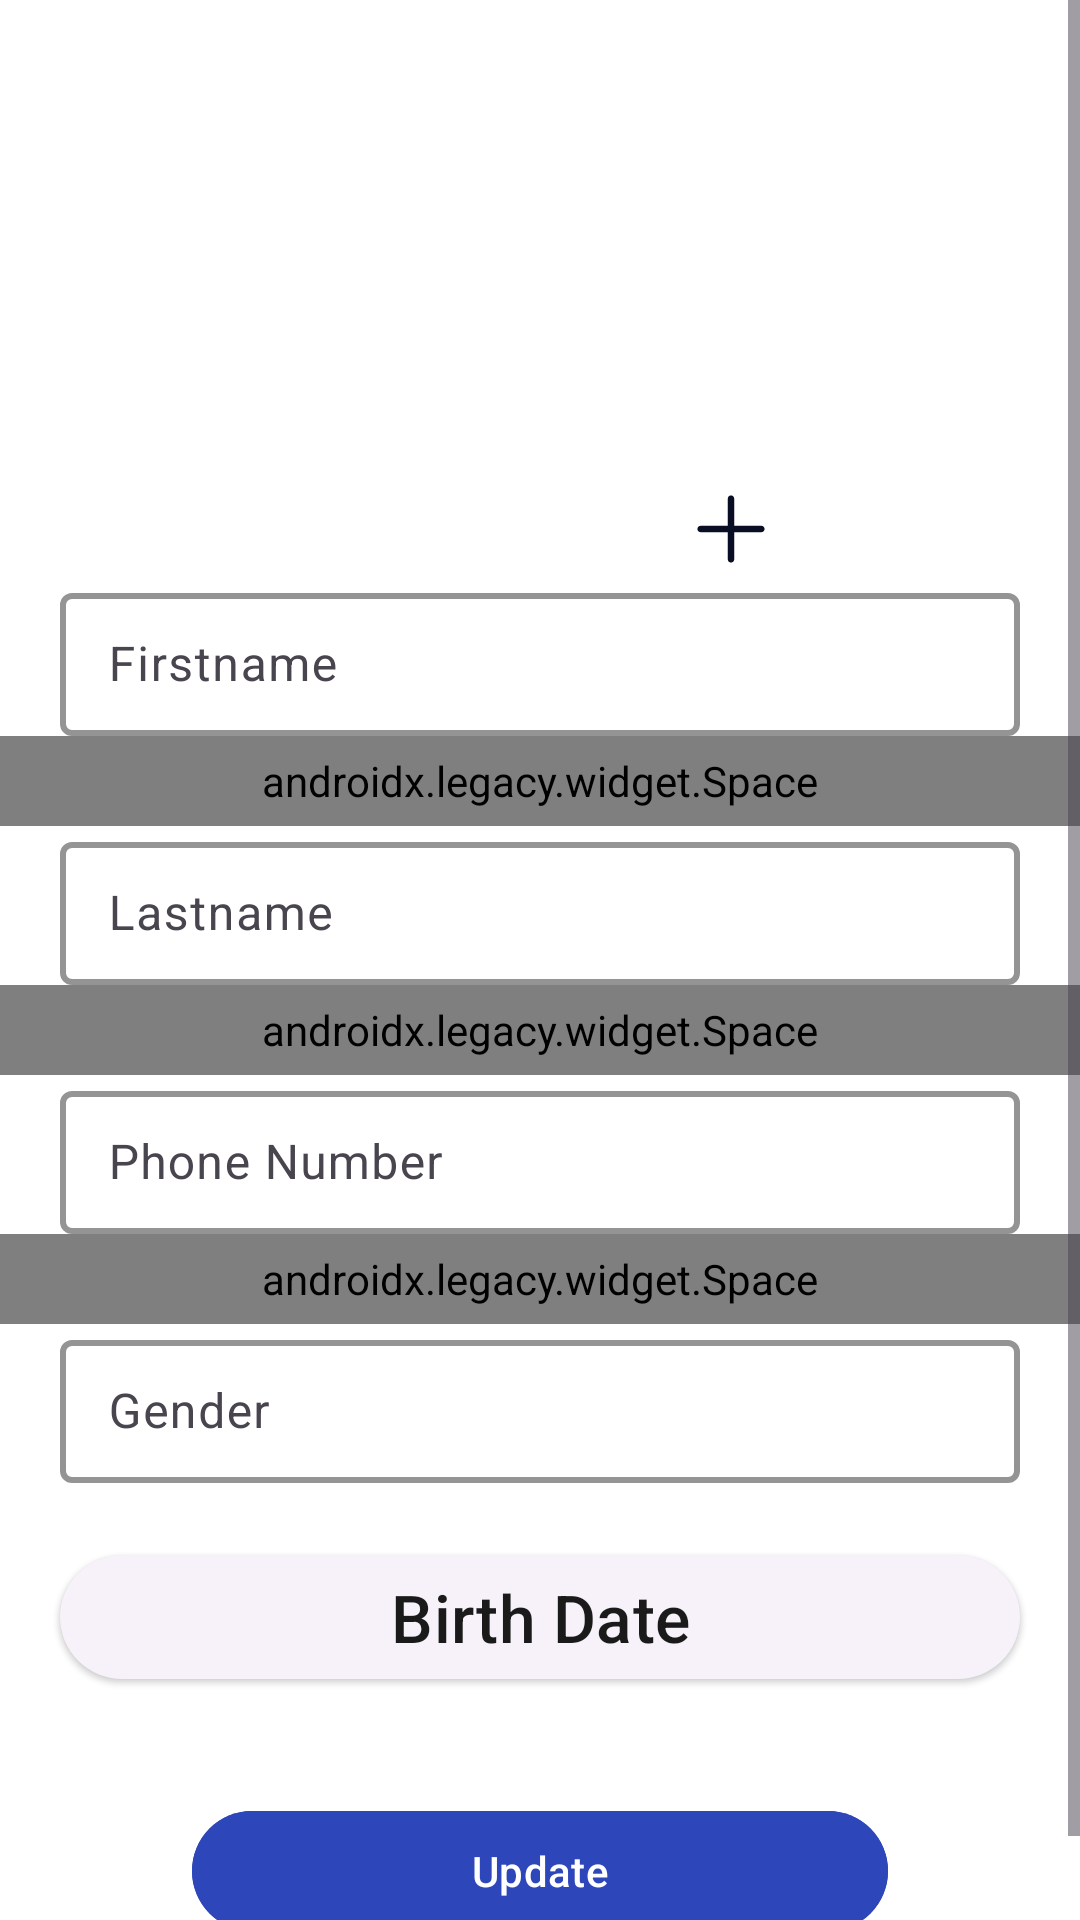

Locate icon controls on the screen. Image size 1080px×1920px, boxes as bbox=(x1, y1, x2, y2).
plus: bbox=(697, 495, 765, 563)
